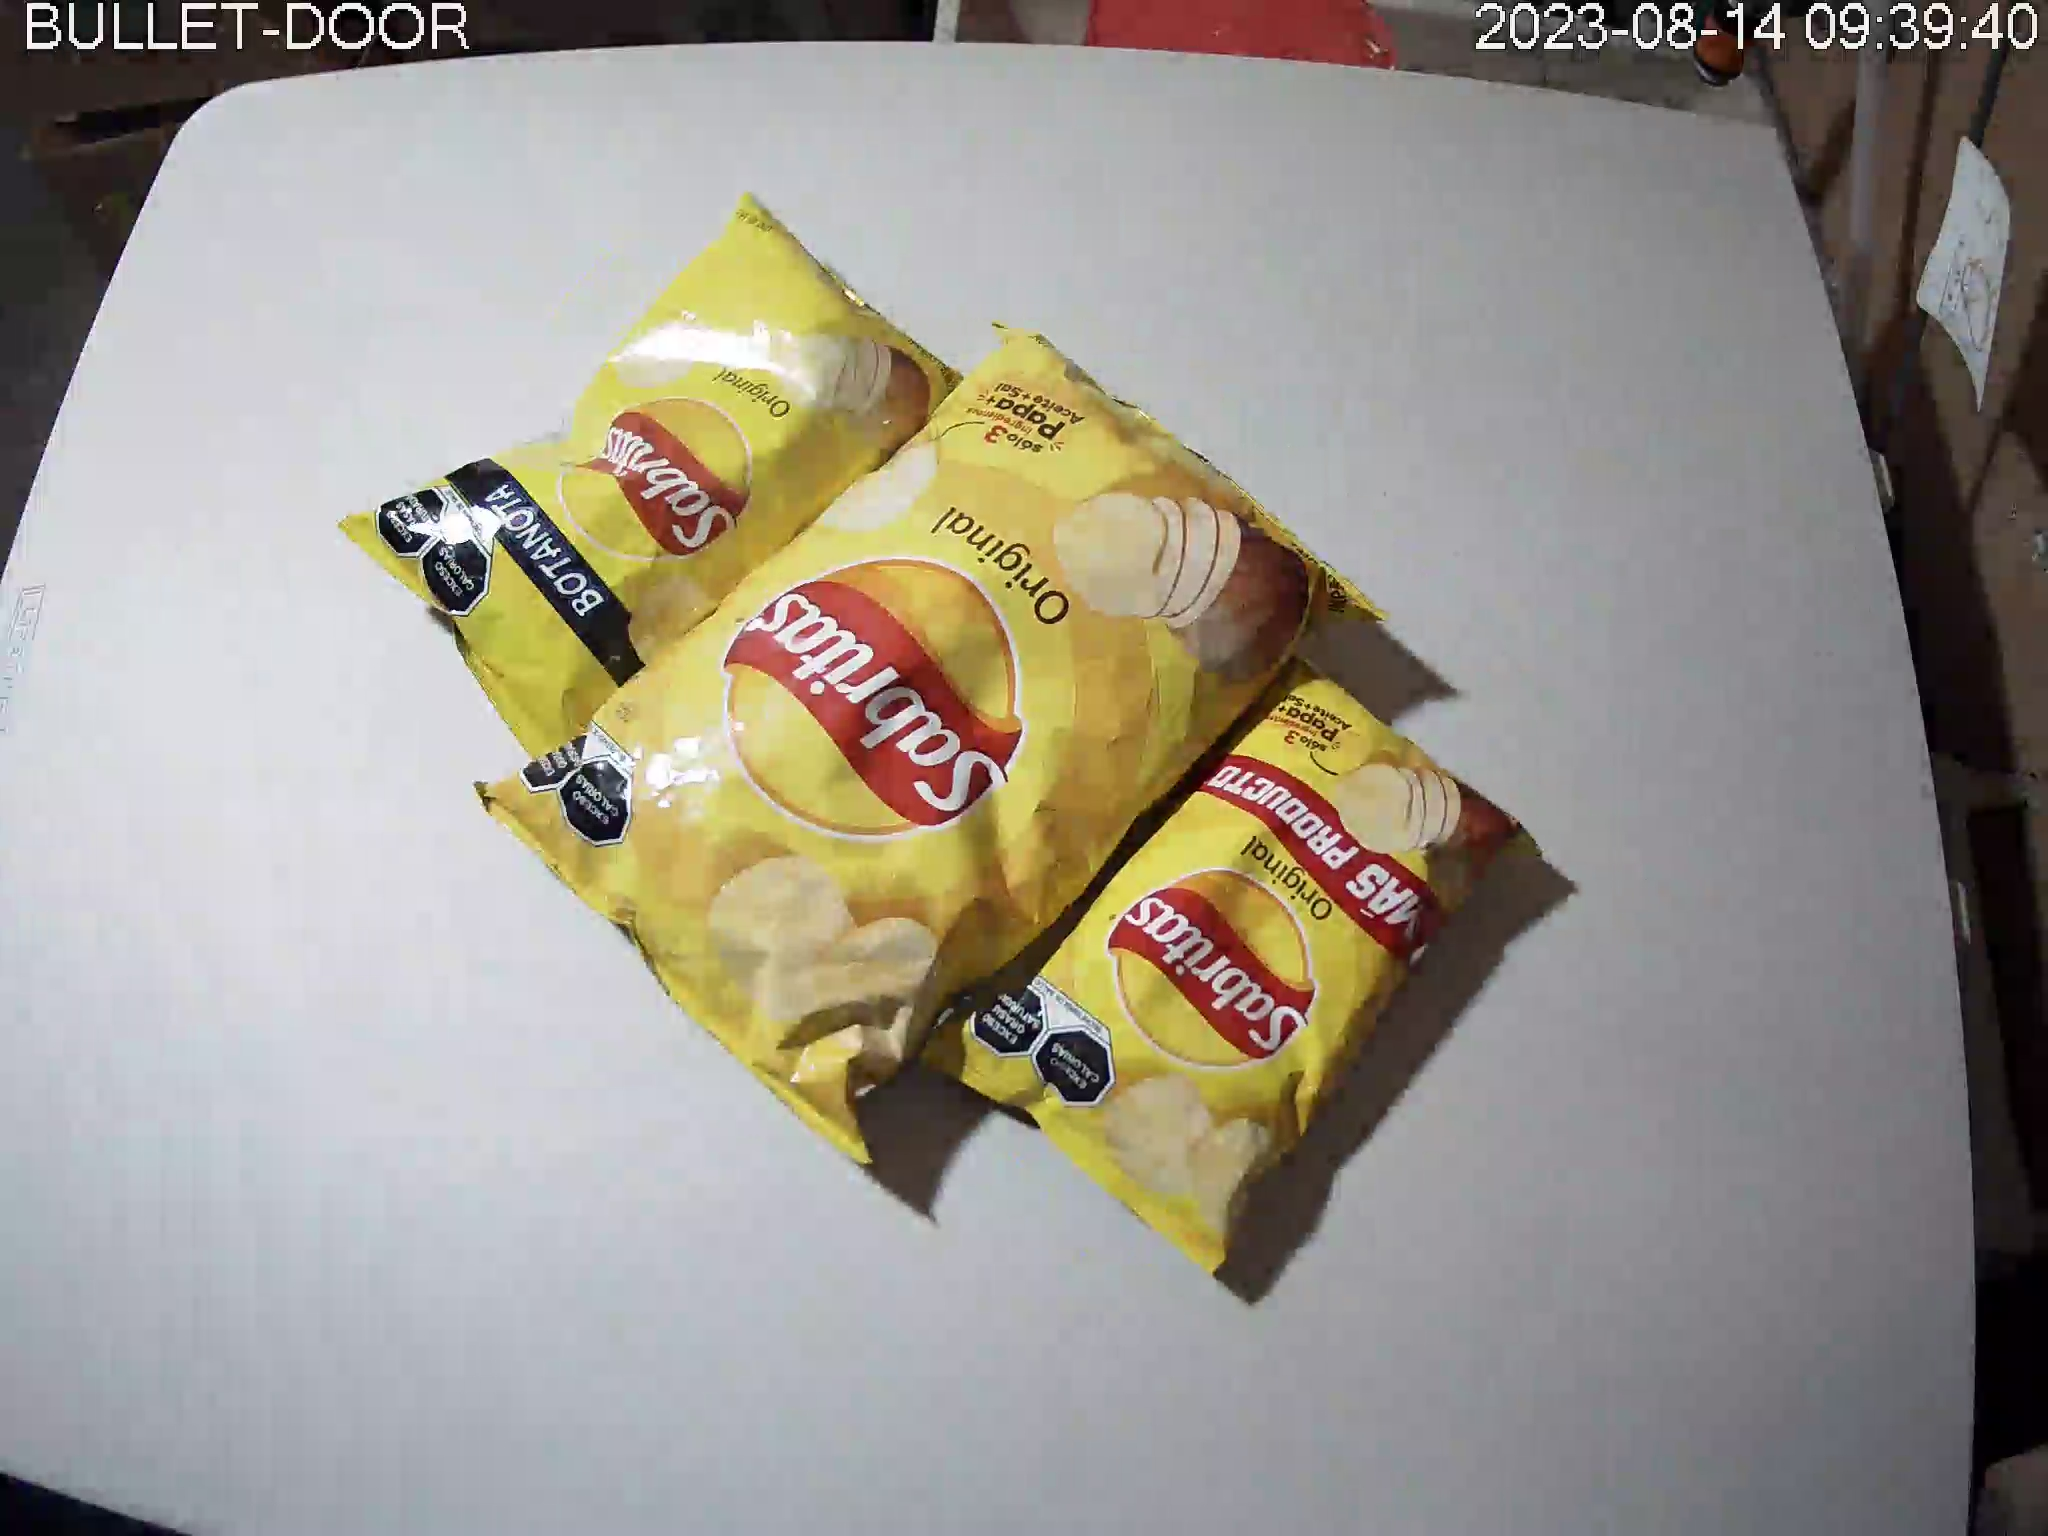Sabritas_160_F: (490, 323, 1388, 1162)
Sabritas_45_F: (921, 649, 1530, 1281)
Sabritas_64_F: (335, 195, 968, 757)
